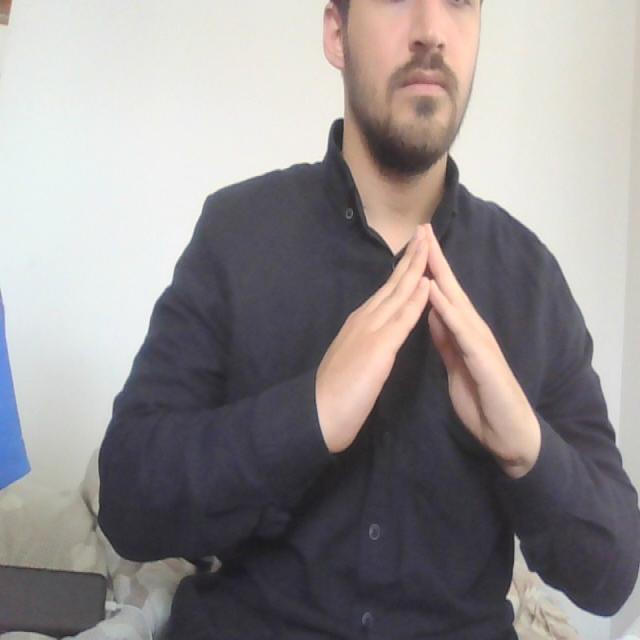Ev: (305, 218, 543, 472)
